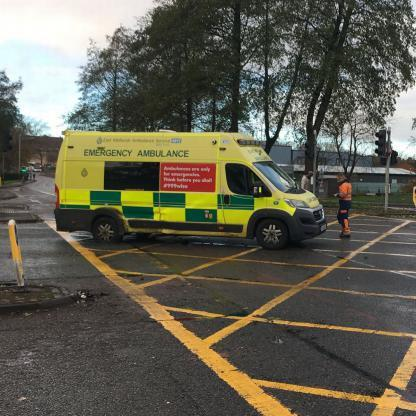Ambulance - v1 Ambulance last generate: (50, 128, 331, 253)
